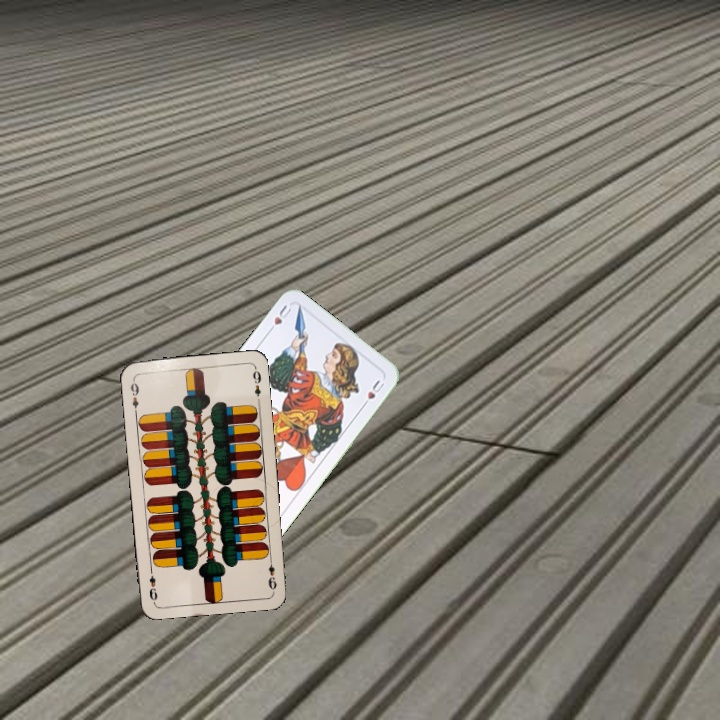E9: (264, 552, 279, 592), (127, 375, 141, 416)
HU: (264, 300, 294, 336)
